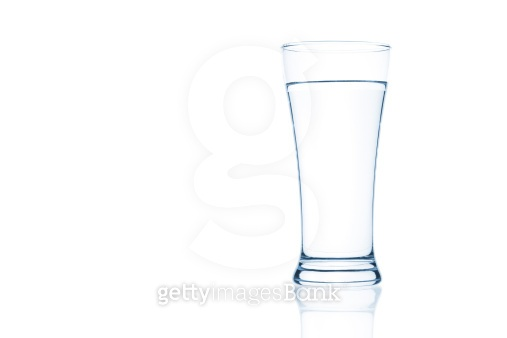glass of water: (277, 33, 391, 289)
